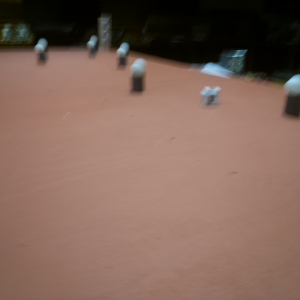blockF: (201, 84, 222, 107)
corner: (99, 16, 111, 51)
obstacle: (282, 72, 300, 121), (129, 61, 148, 95), (115, 41, 132, 68), (34, 45, 48, 64), (37, 36, 48, 51), (89, 37, 97, 56)
